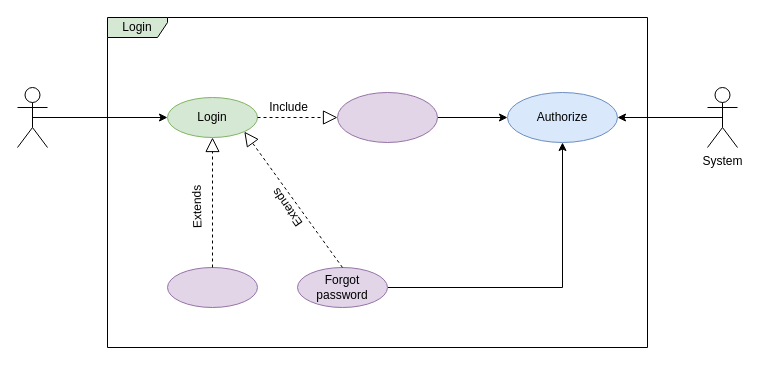
The diagram is 760 pixels wide and 365 high, and some of its shapes have lost their labels. Here are the shapes that lost their labels. From the top down, the centre of each, then its label:
At (32,117): "User".
At (387,117): "Enter Username & Password".
At (212,287): "Register".
